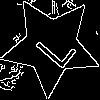L: (26, 20, 78, 71)
